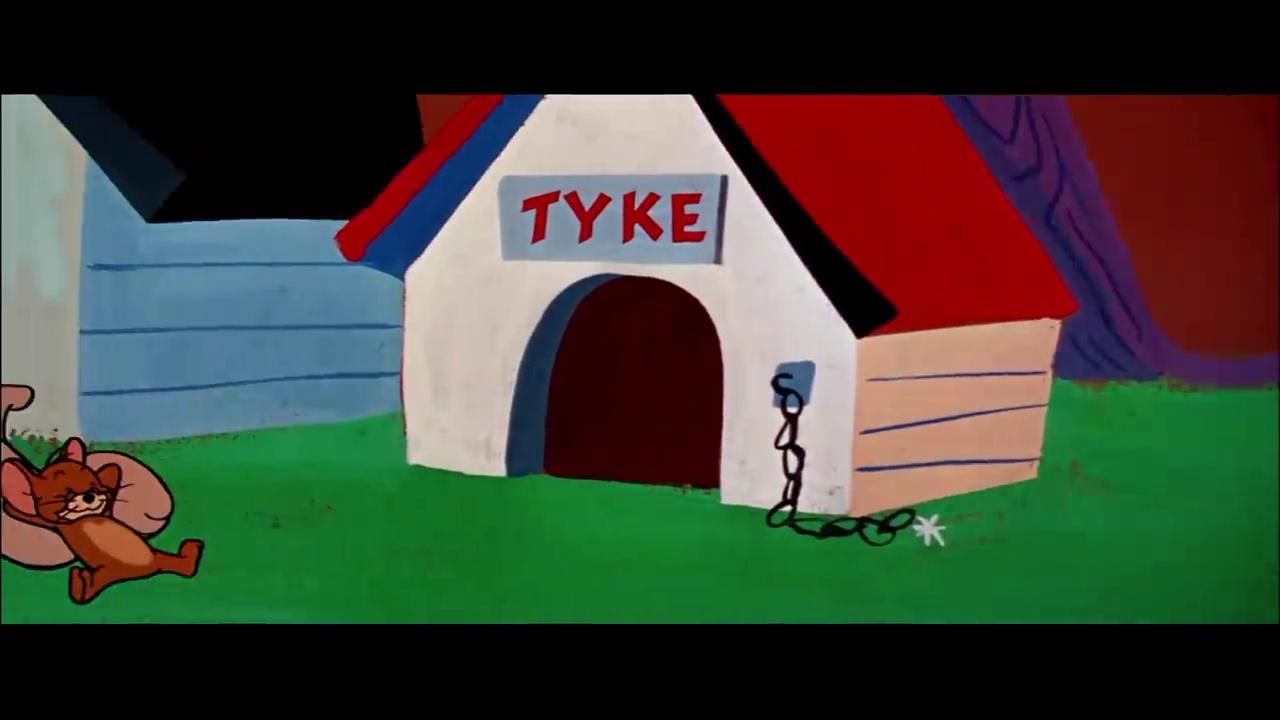Jerry: (0, 435, 207, 604)
